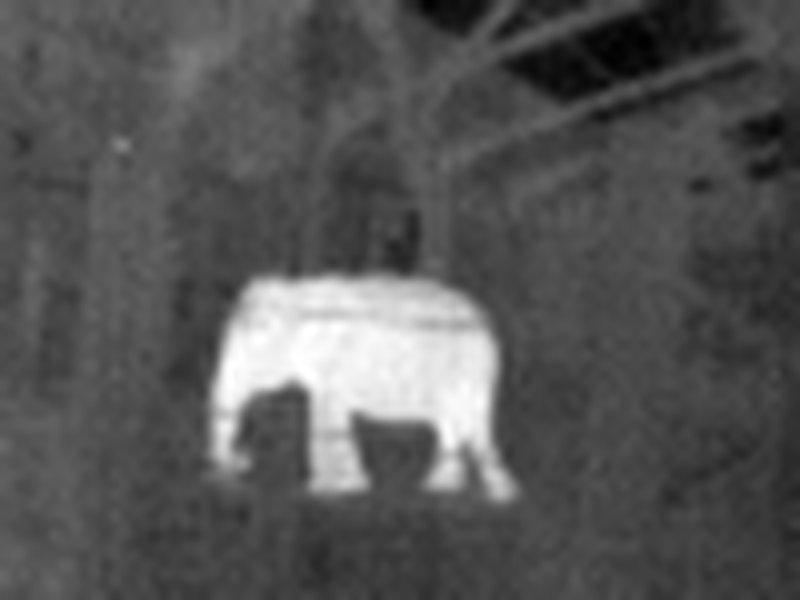elephant: (203, 269, 525, 509)
